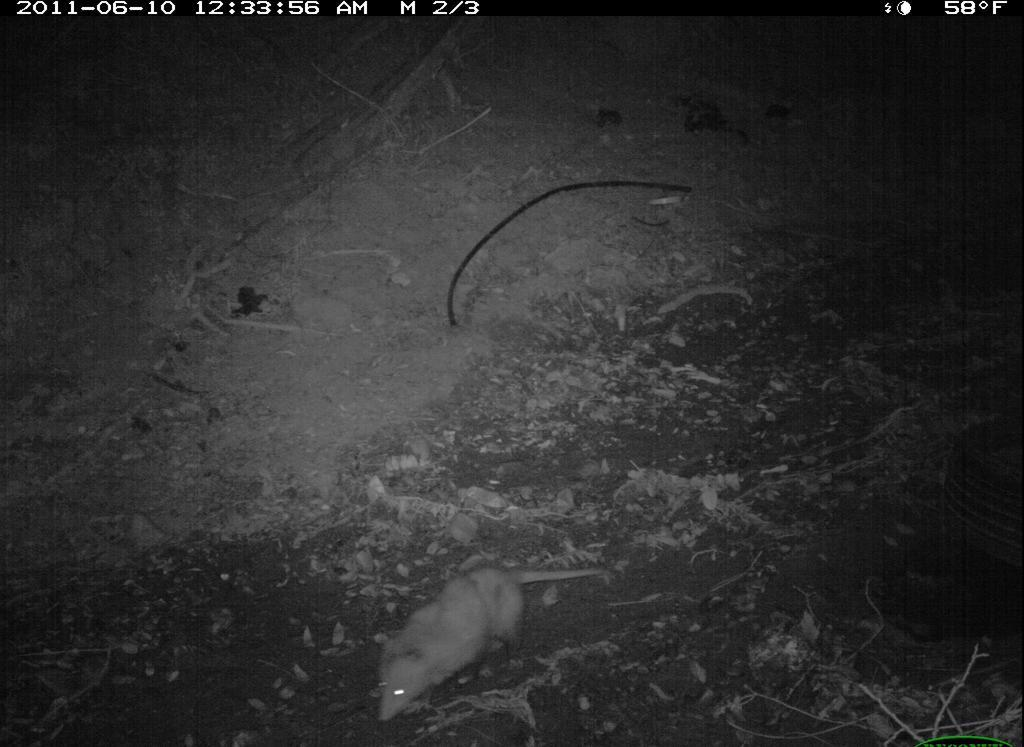opossum: (361, 553, 619, 731)
